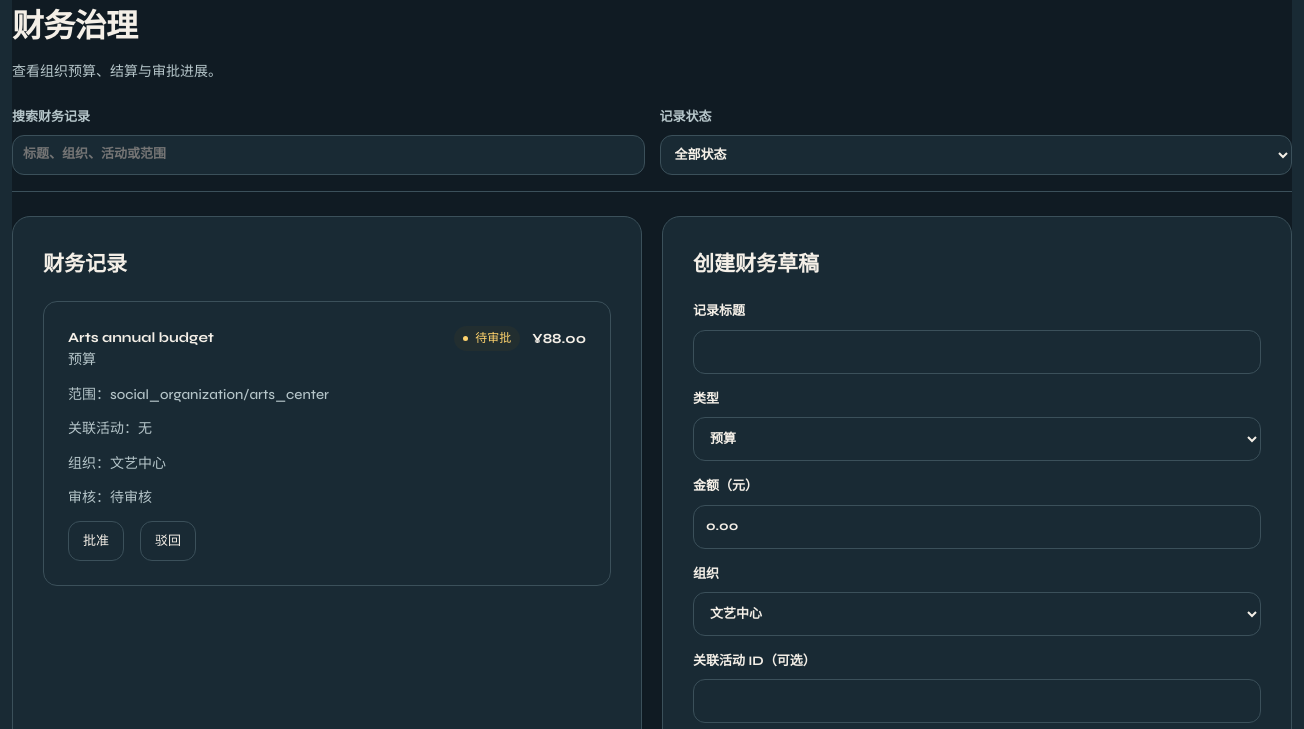
Test: FinancePage organization governance › shows organization context and uses the dedicated review endpoint for Tuanwei oversight
Click the button "批准" at x=96, y=541, box [68,521,124,561]
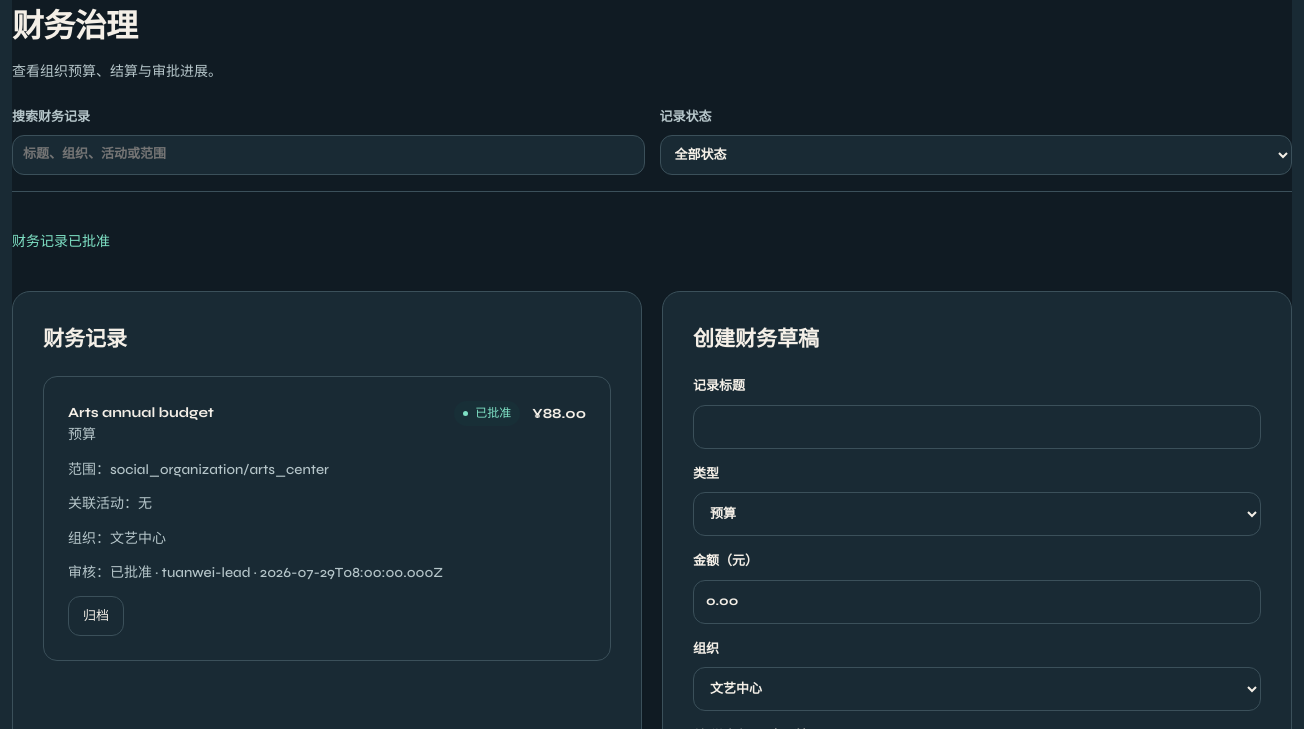
Check: the text "审核：已批准 · tuanwei-lead · 2026-07-29T08:00:00.000Z" is shown, box [68,564,443,581]
